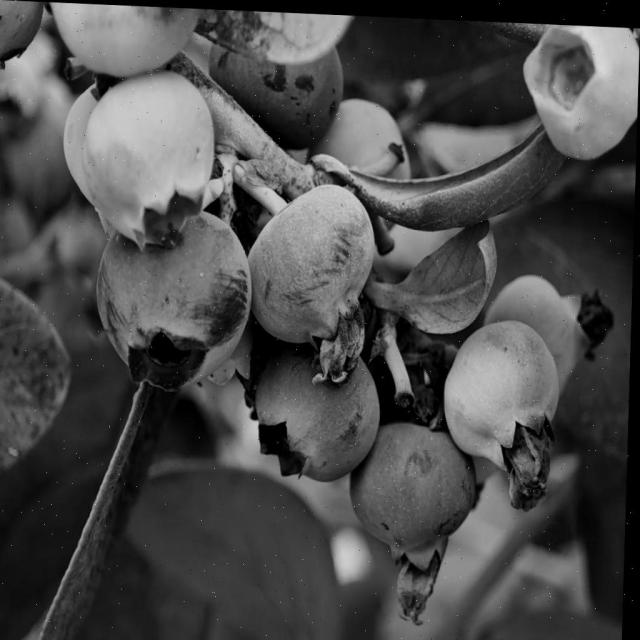RipeBlueBerry: (93, 204, 258, 394), (348, 414, 483, 572), (253, 337, 383, 481), (206, 19, 346, 148)
Semi-RipeBlueBerry: (246, 174, 380, 350)
UnripeBlueBerry: (79, 64, 219, 250), (443, 308, 567, 470), (520, 18, 640, 156), (39, 1, 200, 78)
